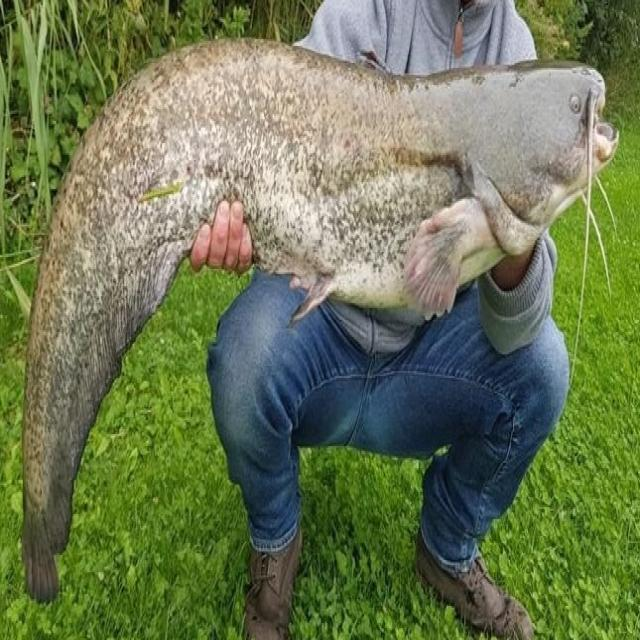Catfish: (27, 24, 619, 619)
